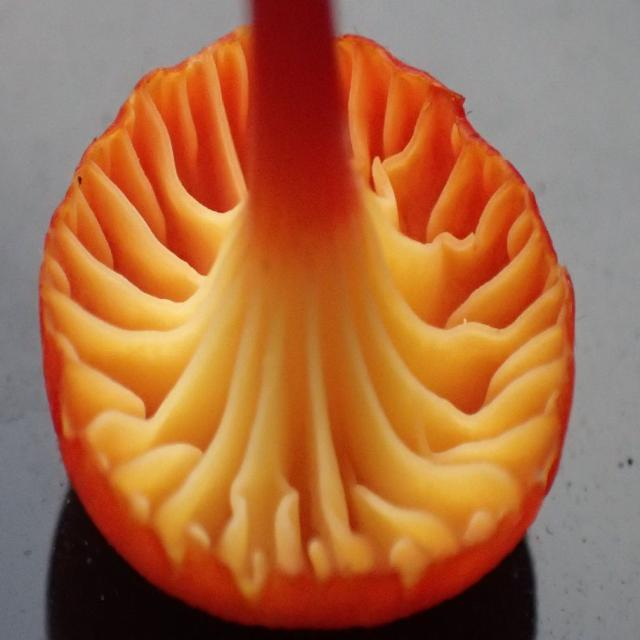Cantharellus cibarius: (41, 0, 576, 626)
